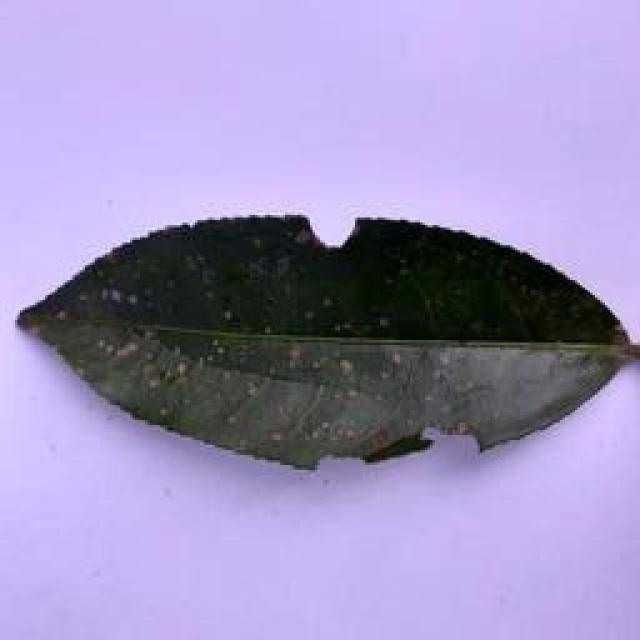Algal Leaf Spot: (25, 206, 640, 468)
